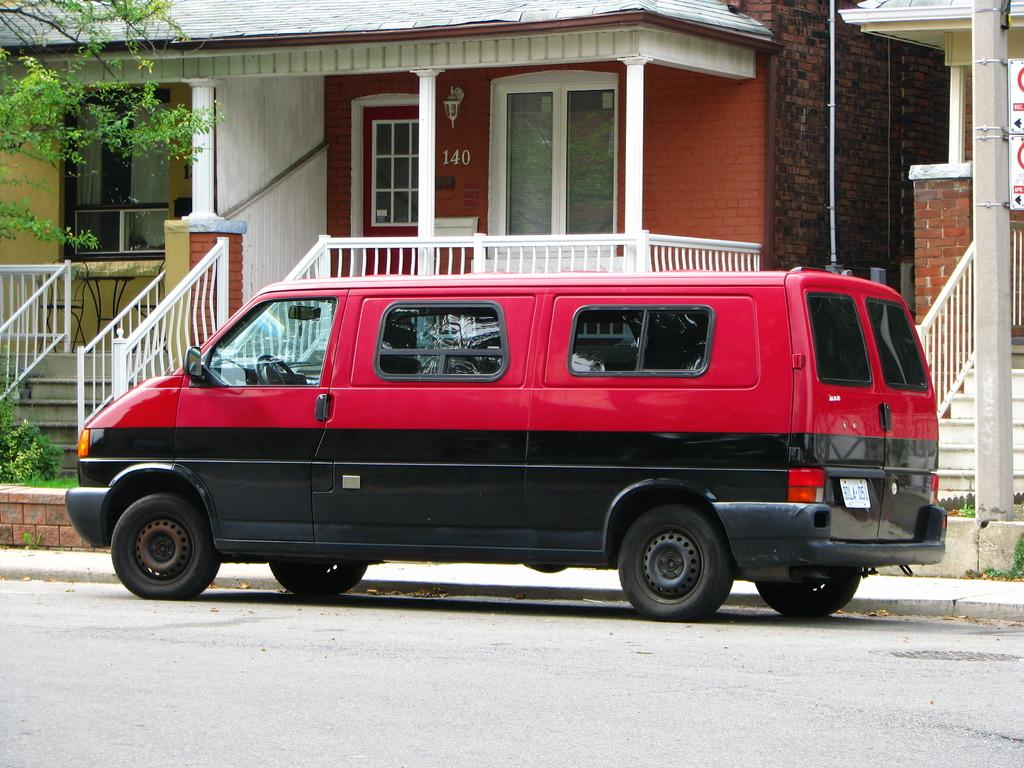vehicle: (64, 269, 949, 620)
